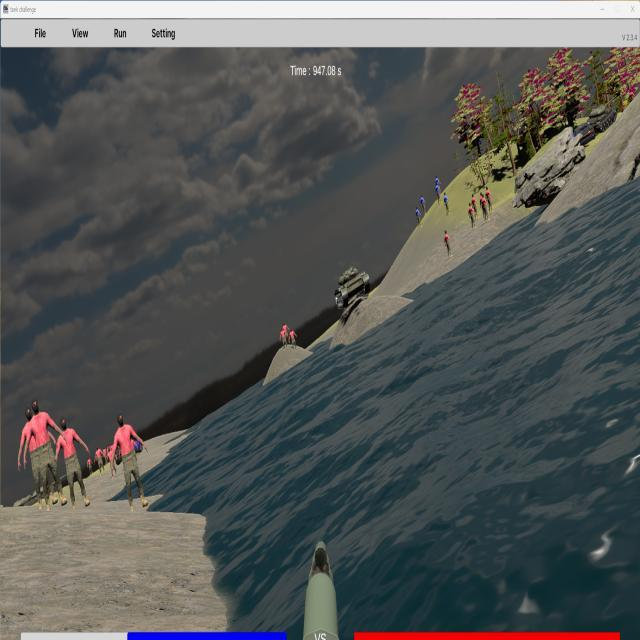Human: (24, 399, 66, 511), (54, 416, 92, 508), (112, 414, 147, 511)
Tank: (335, 266, 371, 310), (335, 266, 371, 309), (587, 95, 618, 136)
